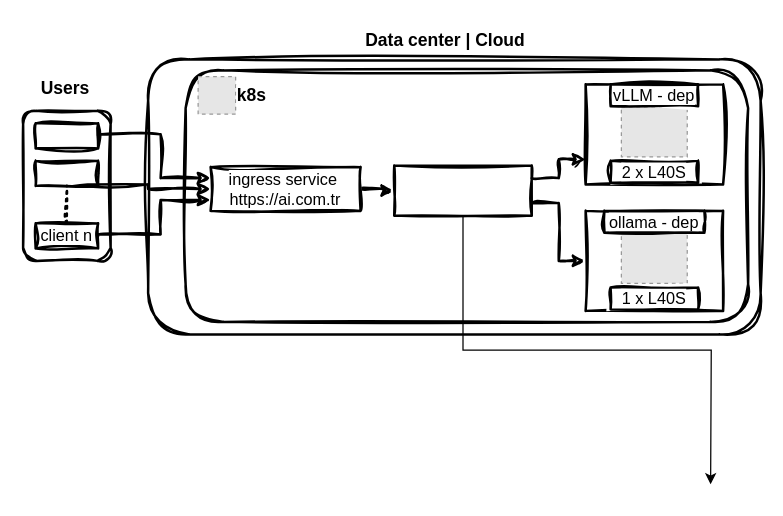
The diagram is 783 pixels wide and 516 high, and some of its shapes have lost their labels. Grey dashed boxes stand in for pictures. Here are the shapes that lost their labels. From the top down, the centre of each, then its label:
At pixel 66 135: "client 1".
At pixel 66 172: "client 2".
At pixel 462 190: "openwebui - dep".
